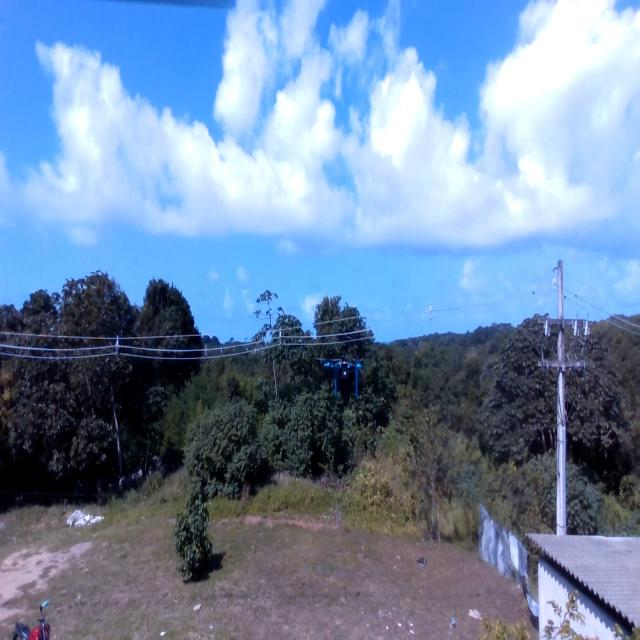-uav-: (312, 330, 372, 420)
